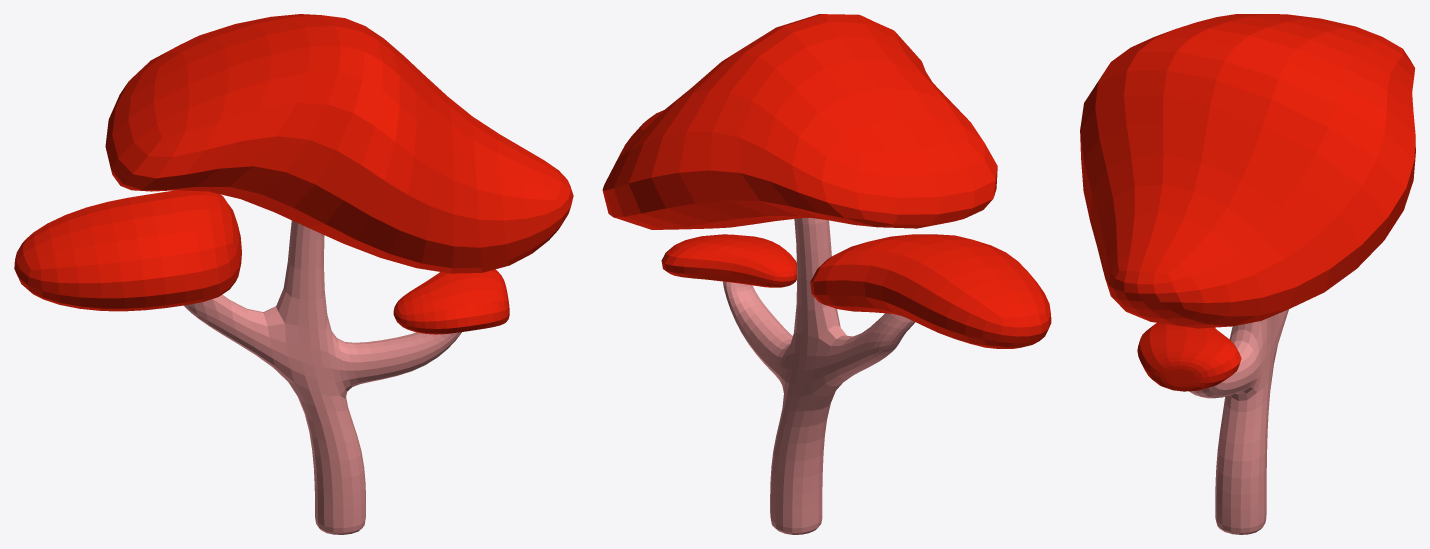
File: Arbol_1.fbx
3 renders of one model, left to right at view 1: azimuth 30°, elevation 25°; view 2: azimuth 150°, elevation 25°; view 3: azimuth 270°, elevation 25°, orthographic.
Visible parts, largest first — view 1: Cube.005; view 2: Cube.005; view 3: Cube.005.
Boxes of the visible parts, x1=… form: Cube.005: x1=14, y1=14, x2=573, y2=534; Cube.005: x1=602, y1=14, x2=1051, y2=534; Cube.005: x1=1080, y1=14, x2=1415, y2=534.
Bounding box in the file's own units: 1105 × 1115 × 689.
